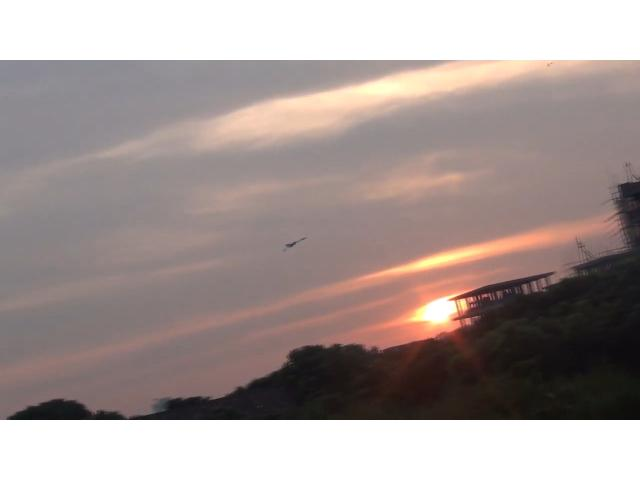Anti-Drone: (282, 236, 306, 252)
